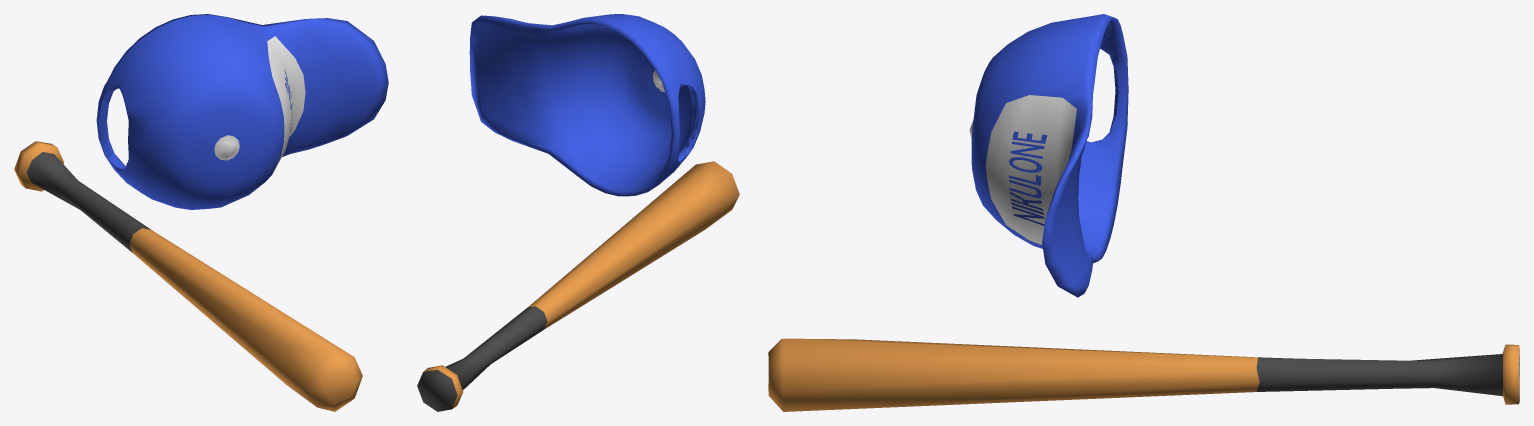
Rendered from enemy_accessories2.glb.
3 renders of one model, left to right at view 1: azimuth 30°, elevation 25°; view 2: azimuth 150°, elevation 25°; view 3: azimuth 270°, elevation 25°, orthographic. The views are drawn at different scales.
Visible parts, largest first — view 1: hat_base, obj_bat; view 2: hat_base, obj_bat; view 3: obj_bat, hat_base.
Part boxes in pixels (x1,y1,x2,y2): hat_base: [96, 14, 388, 209]; obj_bat: [14, 141, 362, 411]; hat_base: [469, 14, 705, 196]; obj_bat: [417, 161, 739, 411]; obj_bat: [768, 338, 1519, 411]; hat_base: [969, 14, 1128, 297].
Bounding box in the file's own units: 2.94 × 3.32 × 6.
